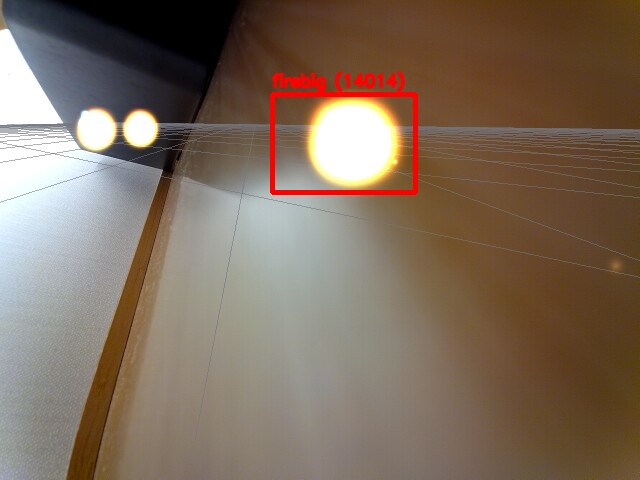firebig: (272, 94, 415, 192)
